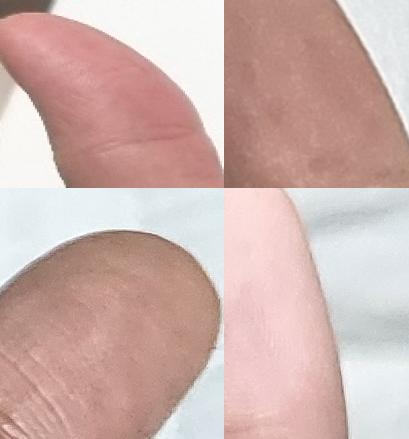Fingerprints: (0, 229, 223, 439), (224, 0, 409, 188), (224, 188, 348, 439), (0, 12, 205, 153)
